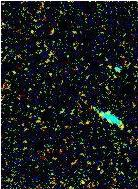star: (88, 98, 118, 128)
